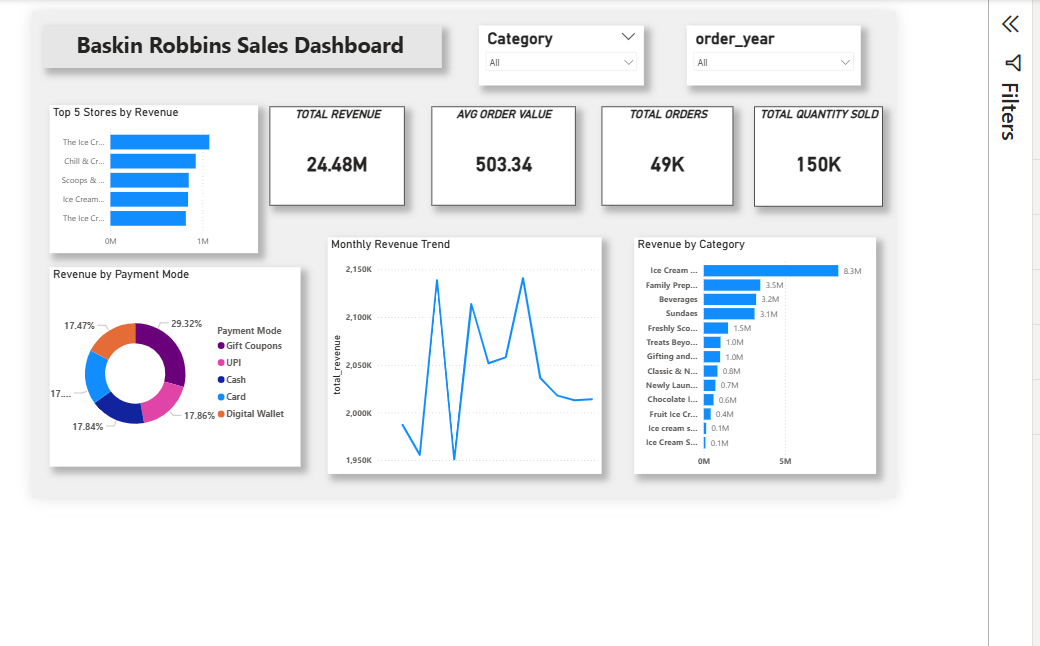

Layout of this report page (visuals, bound fields, positions):
{"tool":"powerbi","page":{"name":"Page 1","canvas":[1280,720],"ordinal":0},"visuals":[{"type":"textbox","box":[16.5,19.8,591.1,62.7],"z":0},{"type":"slicer","fields":{"Values":["Bills.order_year"]},"box":[970.8,19.8,257.6,89.2],"z":1},{"type":"slicer","fields":{"Values":["Bills.Category"]},"box":[662.1,19.8,244.4,89.2],"z":2},{"type":"card","title":"TOTAL REVENUE","fields":{"Values":["Bills.total_revenue"]},"box":[351.7,140.3,199.8,146.9],"z":3},{"type":"card","title":"TOTAL ORDERS","fields":{"Values":["Bills.total_orders"]},"box":[843.7,140.3,194.8,146.9],"z":4},{"type":"card","title":"AVG ORDER VALUE","fields":{"Values":["Bills.average_order_value"]},"box":[591.1,140.3,213,146.9],"z":5},{"type":"card","title":"TOTAL QUANTITY SOLD","fields":{"Values":["Bills.total_quantity_sold"]},"box":[1070,140,190,148],"z":6},{"type":"lineChart","title":"Monthly Revenue Trend","fields":{"Category":["Bills.Order_month"],"Y":["Bills.total_revenue"]},"box":[437.5,333.5,406.2,350],"z":7},{"type":"clusteredBarChart","title":"Revenue by Category","fields":{"Category":["Bills.Category"],"Y":["Bills.total_revenue"]},"box":[891.6,333.5,358.3,350],"z":8},{"type":"donutChart","title":"Revenue by Payment Mode","fields":{"Category":["Bills.Payment Mode"],"Y":["Bills.total_revenue"]},"box":[26.4,378.1,371.5,295.5],"z":9},{"type":"clusteredBarChart","title":"Top 5 Stores by Revenue","fields":{"Category":["Outlet.Store Name"],"Y":["Bills.total_revenue"]},"box":[26.4,138.7,308.7,219.6],"z":10}]}

Visuals, with their boxes on the page's 1280x720 design canvas (x1, y1, x2, y2). These are canvas units, not pixel positions in the 1040x646 screenshot, which may show the page scaled, cropped or inside an application window:
textbox: 16/20/608/82
slicer - Bills.order_year: 971/20/1228/109
slicer - Bills.Category: 662/20/906/109
"TOTAL REVENUE" card: 352/140/552/287
"TOTAL ORDERS" card: 844/140/1038/287
"AVG ORDER VALUE" card: 591/140/804/287
"TOTAL QUANTITY SOLD" card: 1070/140/1260/288
"Monthly Revenue Trend" lineChart: 438/334/844/684
"Revenue by Category" clusteredBarChart: 892/334/1250/684
"Revenue by Payment Mode" donutChart: 26/378/398/674
"Top 5 Stores by Revenue" clusteredBarChart: 26/139/335/358
